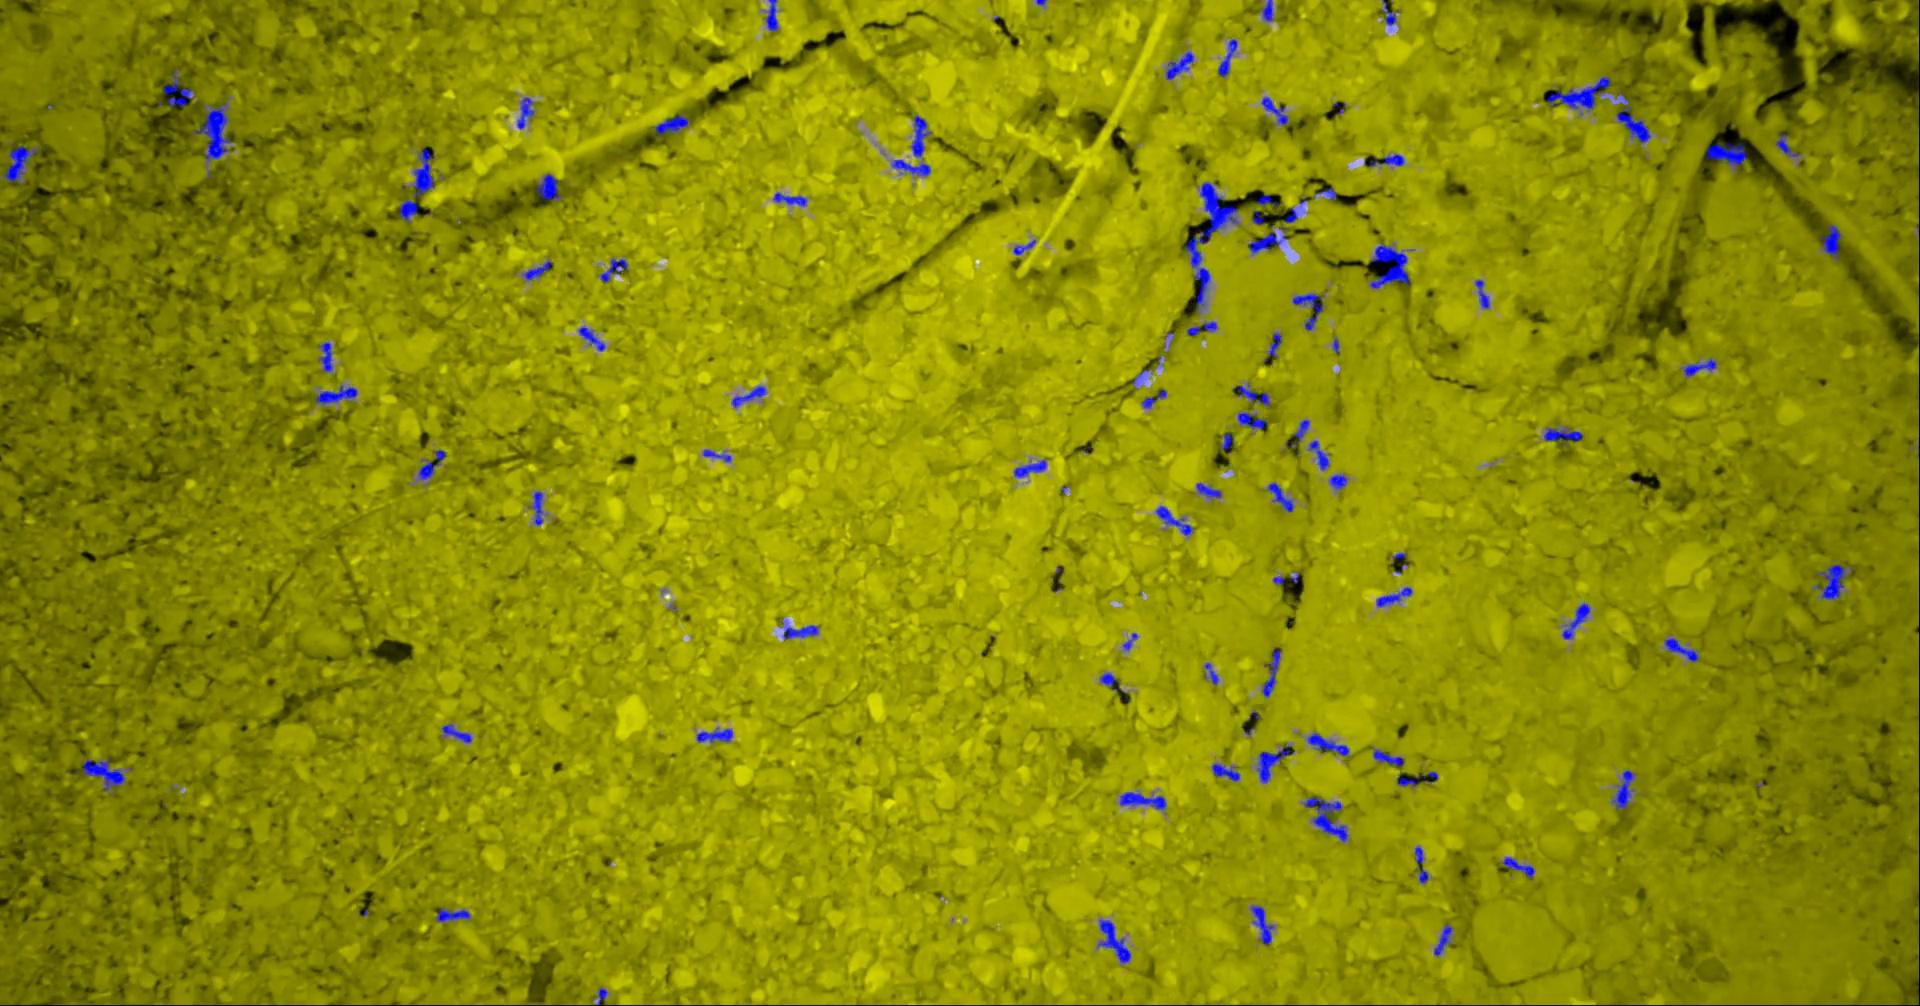ant: (1548, 76, 1611, 111), (196, 102, 232, 159), (1305, 796, 1350, 841), (1371, 243, 1412, 288), (76, 757, 127, 790), (1618, 94, 1652, 142), (1, 144, 41, 180), (1258, 743, 1295, 782), (1098, 920, 1131, 963), (1816, 564, 1848, 600), (1294, 293, 1324, 330), (1705, 142, 1749, 168), (164, 69, 193, 105), (1157, 506, 1194, 535), (1563, 602, 1591, 639), (1308, 732, 1350, 756), (415, 147, 436, 197), (1263, 647, 1283, 696), (1613, 768, 1636, 809), (1252, 904, 1275, 944), (1665, 636, 1700, 661), (1820, 224, 1843, 260), (1121, 791, 1168, 809), (912, 116, 932, 156), (1377, 586, 1415, 607), (655, 114, 691, 137), (1236, 382, 1271, 405), (420, 448, 447, 479), (1219, 38, 1239, 77), (317, 385, 359, 404), (1167, 51, 1195, 79), (1269, 481, 1295, 511), (733, 385, 768, 406), (1262, 97, 1289, 124), (1250, 232, 1288, 251), (537, 173, 563, 199), (1545, 427, 1583, 445), (1398, 770, 1439, 786), (1503, 856, 1537, 876), (1288, 419, 1310, 448), (1684, 357, 1718, 376), (893, 159, 932, 175), (602, 258, 629, 282), (579, 326, 606, 351), (1015, 459, 1048, 478), (1435, 923, 1454, 956), (1777, 131, 1801, 156), (1310, 439, 1331, 469), (785, 624, 820, 640), (1101, 672, 1128, 694), (698, 727, 734, 742), (524, 260, 552, 279), (1213, 762, 1241, 781), (518, 97, 535, 128), (443, 724, 472, 742), (1143, 387, 1168, 408), (1416, 846, 1430, 883), (1374, 749, 1404, 766), (1370, 152, 1406, 166), (1239, 412, 1267, 429), (437, 907, 472, 921), (775, 192, 808, 206), (1189, 321, 1218, 337), (400, 199, 419, 222), (320, 340, 334, 371), (1383, 0, 1399, 25), (532, 492, 545, 525), (1477, 279, 1491, 307), (767, 0, 780, 30), (1197, 481, 1223, 497), (703, 448, 733, 461), (1269, 332, 1283, 357), (1015, 239, 1037, 254), (1330, 473, 1349, 489), (1206, 662, 1220, 683), (1316, 187, 1338, 199), (1124, 633, 1139, 650), (1263, 0, 1275, 22), (1258, 194, 1280, 206), (1222, 432, 1233, 453), (597, 987, 610, 1005), (1286, 207, 1299, 222), (1253, 210, 1266, 224)
